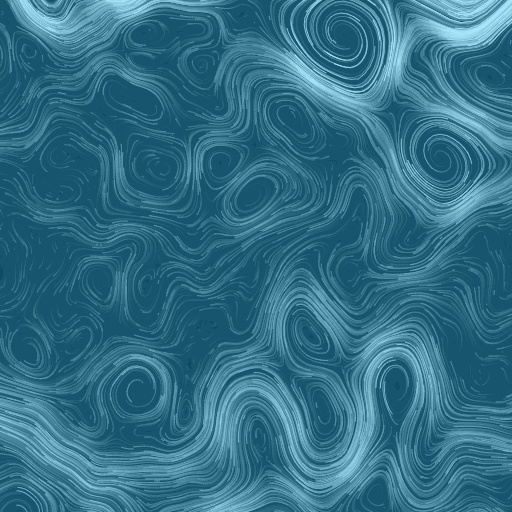eddy: (300, 1, 386, 73), (410, 119, 484, 197), (263, 92, 329, 158), (105, 357, 170, 424), (373, 351, 422, 431), (300, 377, 346, 452), (128, 142, 185, 197), (101, 75, 167, 122), (285, 305, 337, 358), (198, 141, 245, 193), (79, 255, 123, 309), (9, 321, 52, 376), (231, 172, 282, 218), (356, 466, 396, 512), (31, 179, 84, 210), (124, 15, 168, 50), (243, 414, 274, 462), (468, 61, 509, 94), (334, 254, 367, 291), (185, 48, 220, 80), (174, 394, 195, 432), (134, 268, 157, 300), (19, 42, 40, 61)
